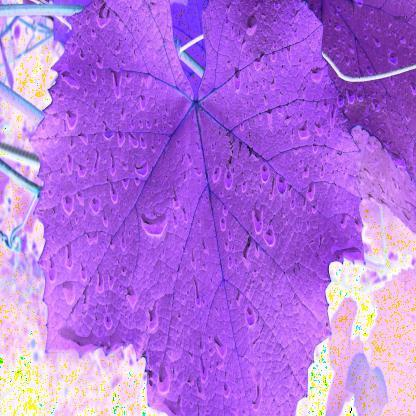grape leaf black rot: (37, 3, 361, 412)
